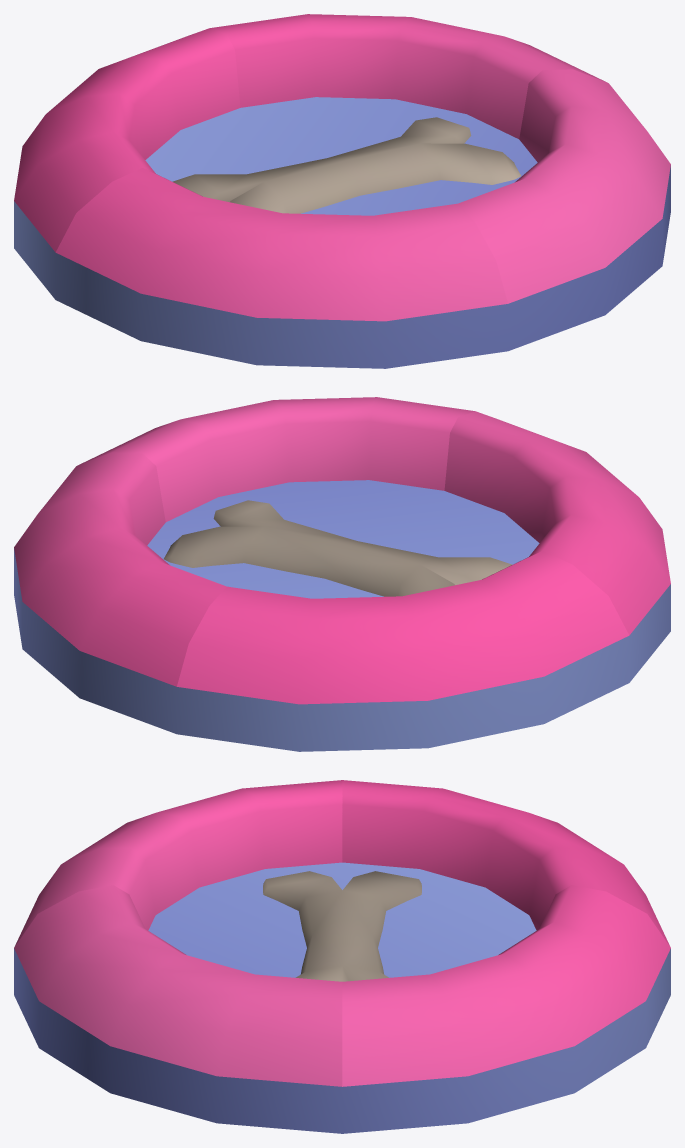
The model's file is dog_kap.fbx.
3 views of the same model, one above another, from view 1: azimuth 30°, elevation 25°; view 2: azimuth 150°, elevation 25°; view 3: azimuth 270°, elevation 25° (orthographic).
Visible parts, largest first — view 1: dog_kap, dog_kemik; view 2: dog_kap, dog_kemik; view 3: dog_kap, dog_kemik.
Boxes of the visible parts, x1,y1,x2,y2 form: dog_kap: [14, 14, 670, 368]; dog_kemik: [172, 117, 520, 213]; dog_kap: [14, 397, 670, 751]; dog_kemik: [164, 500, 512, 596]; dog_kap: [14, 780, 670, 1133]; dog_kemik: [263, 871, 421, 981].
Size of the model in its own units: 2 by 0.3697 by 2.
